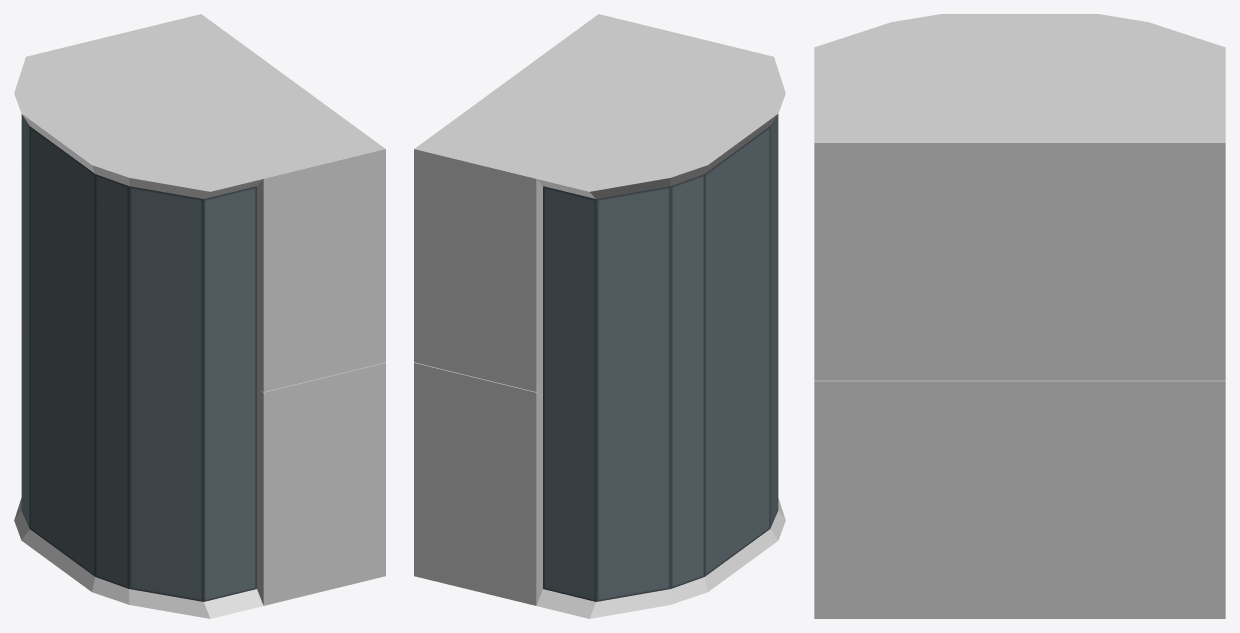
File: Transferbox_test_3.glb
3 views of the same model, side by side, from view 1: azimuth 30°, elevation 25°; view 2: azimuth 150°, elevation 25°; view 3: azimuth 270°, elevation 25° (orthographic). The views are drawn at different scales.
Visible parts, largest first — view 1: TransferBox, TransferBox_Door; view 2: TransferBox, TransferBox_Door; view 3: TransferBox.
Part boxes in pixels (<box>): TransferBox: <box>14,14,385,618</box>; TransferBox_Door: <box>21,114,256,601</box>; TransferBox: <box>414,14,785,618</box>; TransferBox_Door: <box>543,114,778,601</box>; TransferBox: <box>814,14,1225,618</box>.
Bounding box in the file's own units: 1.11 × 1.9 × 1.49.
Materials: 1 (1 with a texture image).
